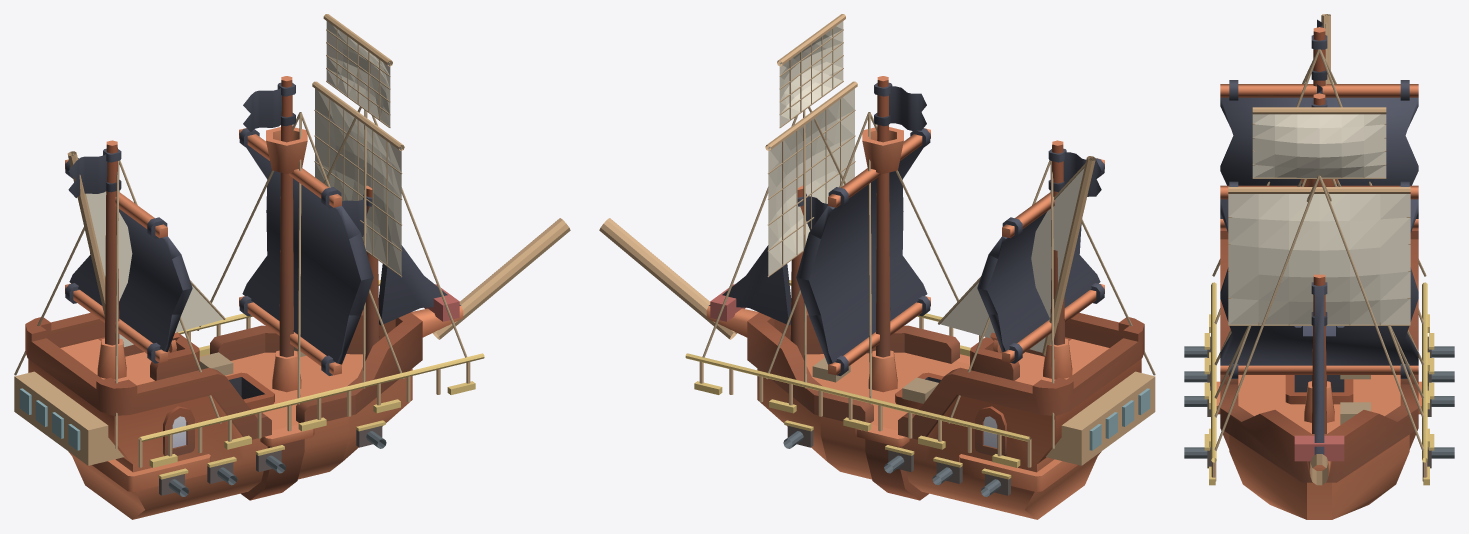
The model's file is privateer-custom.glb.
3 views of the same model, side by side, from view 1: azimuth 30°, elevation 25°; view 2: azimuth 150°, elevation 25°; view 3: azimuth 270°, elevation 25° (orthographic). The views are drawn at different scales.
Visible parts, largest first — view 1: ship-pirate-medium, privateer-bespoke-components, sail-a, sail-b, flag-b, flag-c; view 2: ship-pirate-medium, privateer-bespoke-components, sail-a, sail-b, flag-b, flag-c; view 3: privateer-bespoke-components, ship-pirate-medium, sail-a, sail-b, flag-c.
Boxes of the visible parts, box(x1,y1,x2,y2) form: ship-pirate-medium: box(25, 76, 463, 519); privateer-bespoke-components: box(14, 14, 570, 496); sail-a: box(239, 128, 373, 375); sail-b: box(65, 158, 192, 363); flag-b: box(243, 82, 295, 131); flag-c: box(68, 148, 121, 197); ship-pirate-medium: box(706, 76, 1144, 519); privateer-bespoke-components: box(599, 14, 1155, 496); sail-a: box(796, 128, 930, 375); sail-b: box(977, 158, 1104, 363); flag-b: box(874, 82, 926, 130); flag-c: box(1048, 148, 1101, 196); privateer-bespoke-components: box(1184, 14, 1454, 485); ship-pirate-medium: box(1216, 27, 1421, 519); sail-a: box(1220, 181, 1418, 378); sail-b: box(1220, 80, 1418, 228); flag-c: box(1311, 19, 1327, 80).
Bounding box in the file's own units: 49.55 × 37.55 × 21.3.
Materials: 9 (1 with a texture image).
